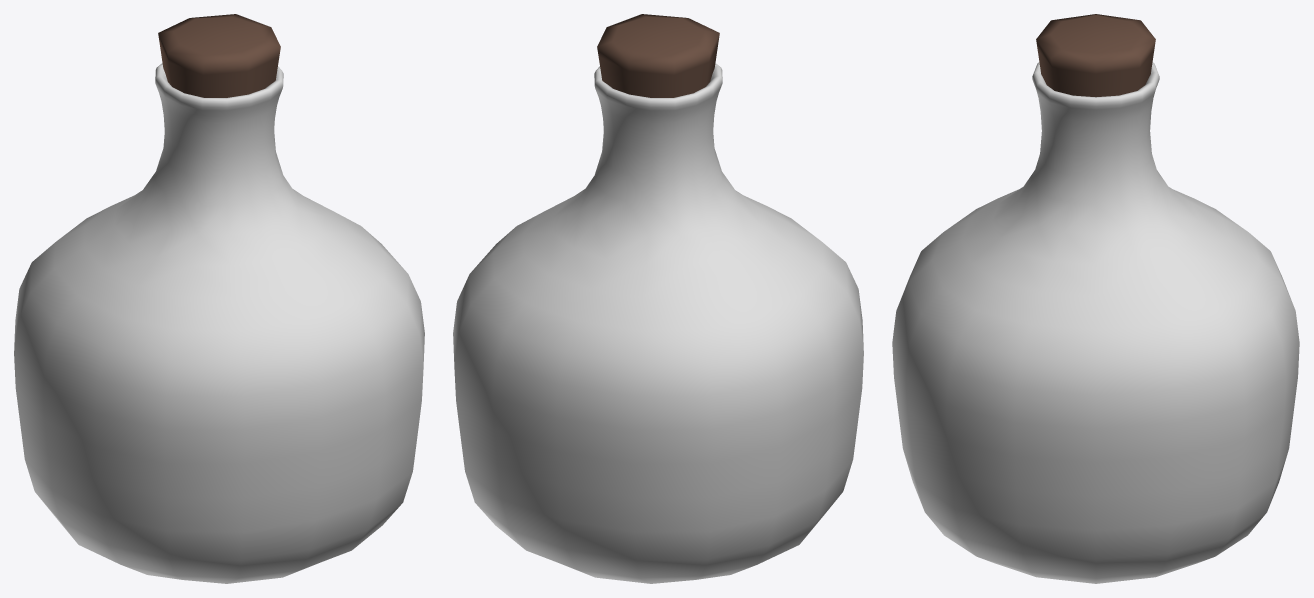
Rendered from Potion2_Filled.glb.
The picture shows the model from 3 angles, left to right: view 1: azimuth 30°, elevation 25°; view 2: azimuth 150°, elevation 25°; view 3: azimuth 270°, elevation 25°; orthographic projection.
Visible parts, largest first — view 1: Potion2_Filled; view 2: Potion2_Filled; view 3: Potion2_Filled.
Boxes of the visible parts, bbox=[...] form: Potion2_Filled: bbox=[14, 14, 424, 583]; Potion2_Filled: bbox=[453, 14, 863, 583]; Potion2_Filled: bbox=[892, 14, 1299, 583].
Size of the model in its own units: 0.8768 by 1.22 by 0.8768.
